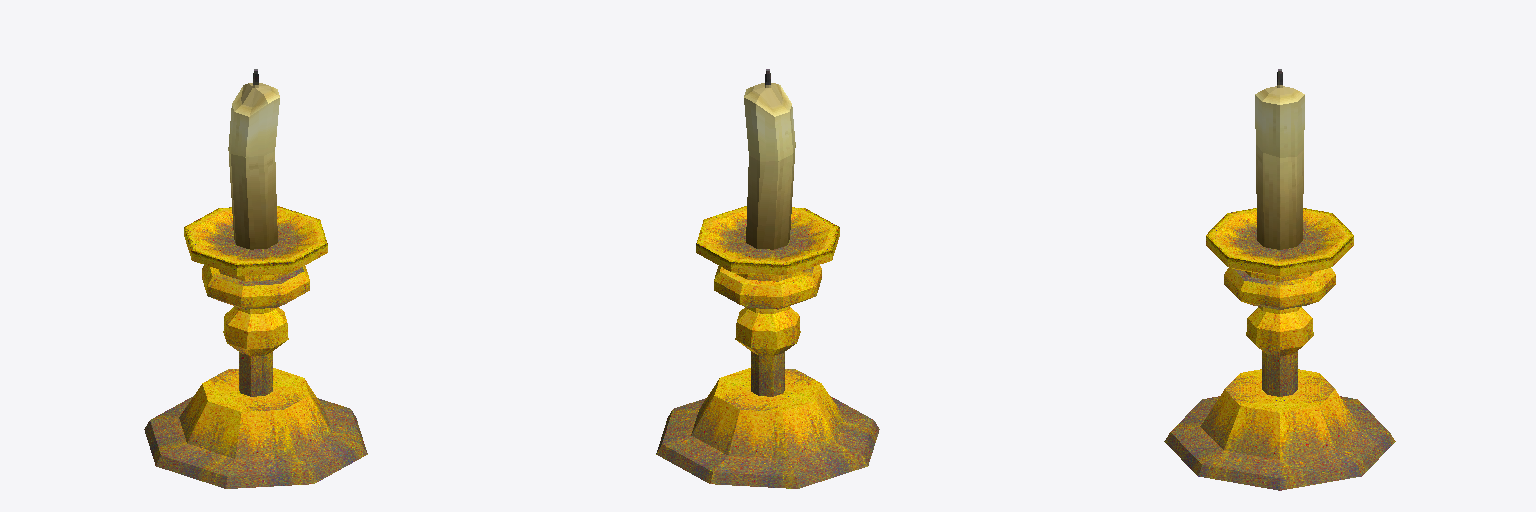
3 renders of one model, left to right at view 1: azimuth 30°, elevation 25°; view 2: azimuth 150°, elevation 25°; view 3: azimuth 270°, elevation 25°, orthographic.
Visible parts, largest first — view 1: Default_Layer; view 2: Default_Layer; view 3: Default_Layer.
Boxes of the visible parts, x1=… form: Default_Layer: x1=144, y1=69, x2=367, y2=488; Default_Layer: x1=656, y1=69, x2=879, y2=488; Default_Layer: x1=1164, y1=69, x2=1395, y2=490.
Size of the model in its own units: 0.9062 by 1.61 by 0.9062.
Materials: 1 (1 with a texture image).